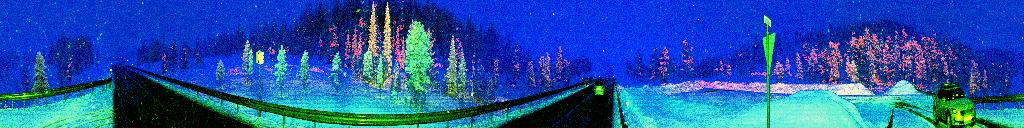pole: (470, 79, 474, 105), (626, 84, 629, 112)
